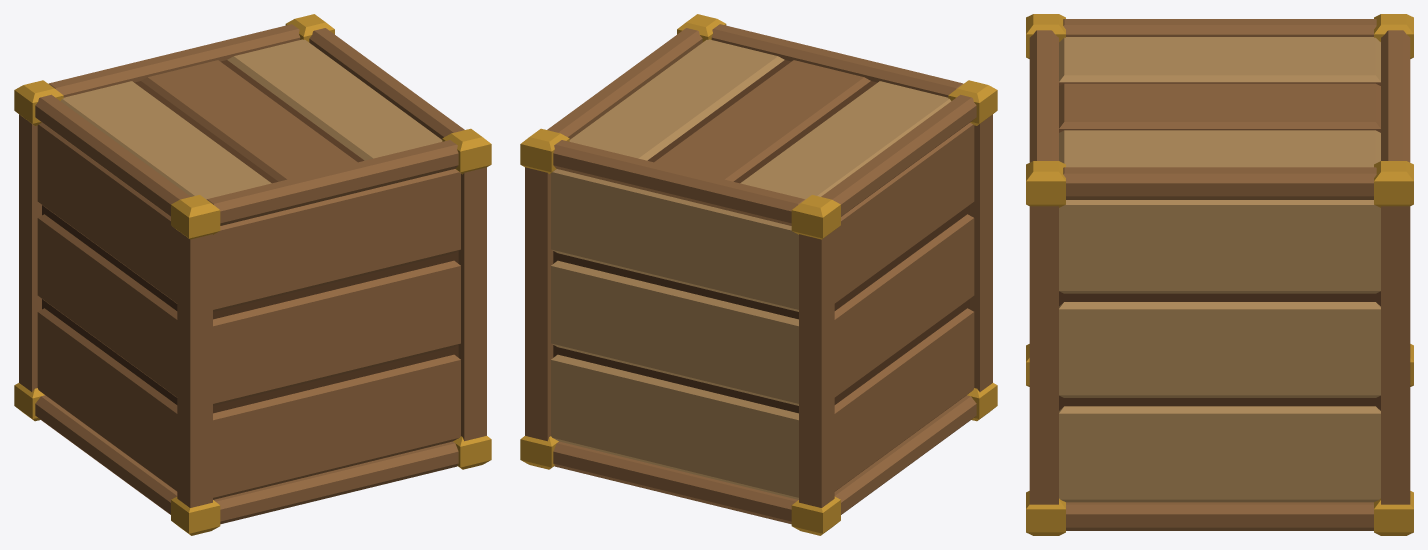
File: Crate_22.glb
3 views of the same model, side by side, from view 1: azimuth 30°, elevation 25°; view 2: azimuth 150°, elevation 25°; view 3: azimuth 270°, elevation 25° (orthographic). The views are drawn at different scales.
Parts seen in each view (by area): view 1: Crate_22; view 2: Crate_22; view 3: Crate_22.
Part boxes in pixels (bbox=[...]): Crate_22: bbox=[14, 14, 491, 535]; Crate_22: bbox=[520, 14, 997, 535]; Crate_22: bbox=[1026, 14, 1413, 535].
Bounding box in the file's own units: 2.13 × 2.21 × 2.13.
